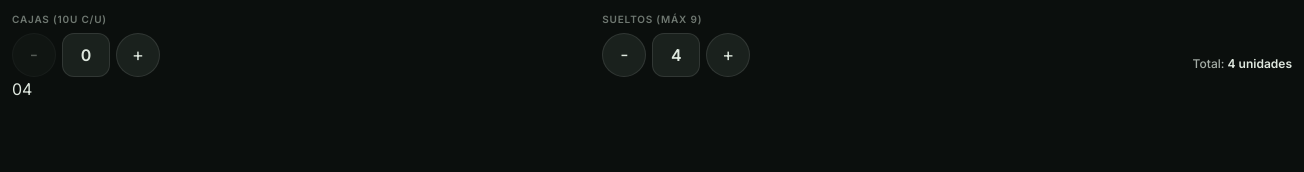
Scenario: QuantityStepper › acepta una presentación distinta
The width and height of the screenshot is (1304, 172).
Click the button named "Sumar sueltos".
click(728, 55)  # box [706, 33, 750, 77]
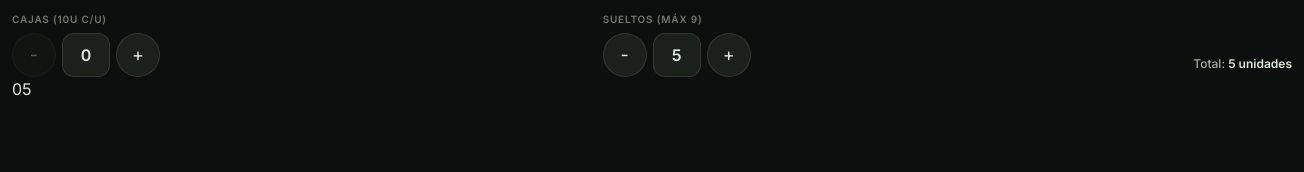
Click the button named "Sumar sueltos".
click(729, 55)  # box [707, 33, 751, 77]
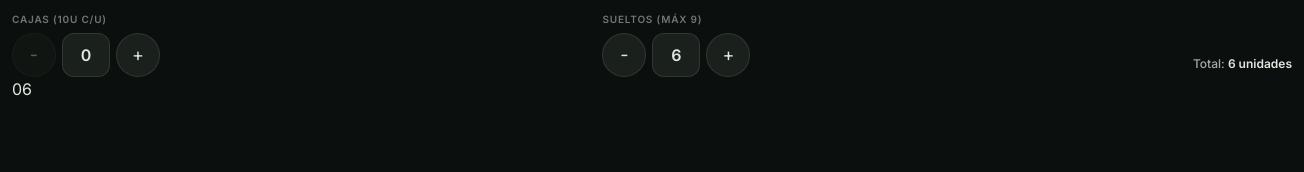
Now the text with test id "sueltos" reads "6", box [22, 79, 32, 99]
